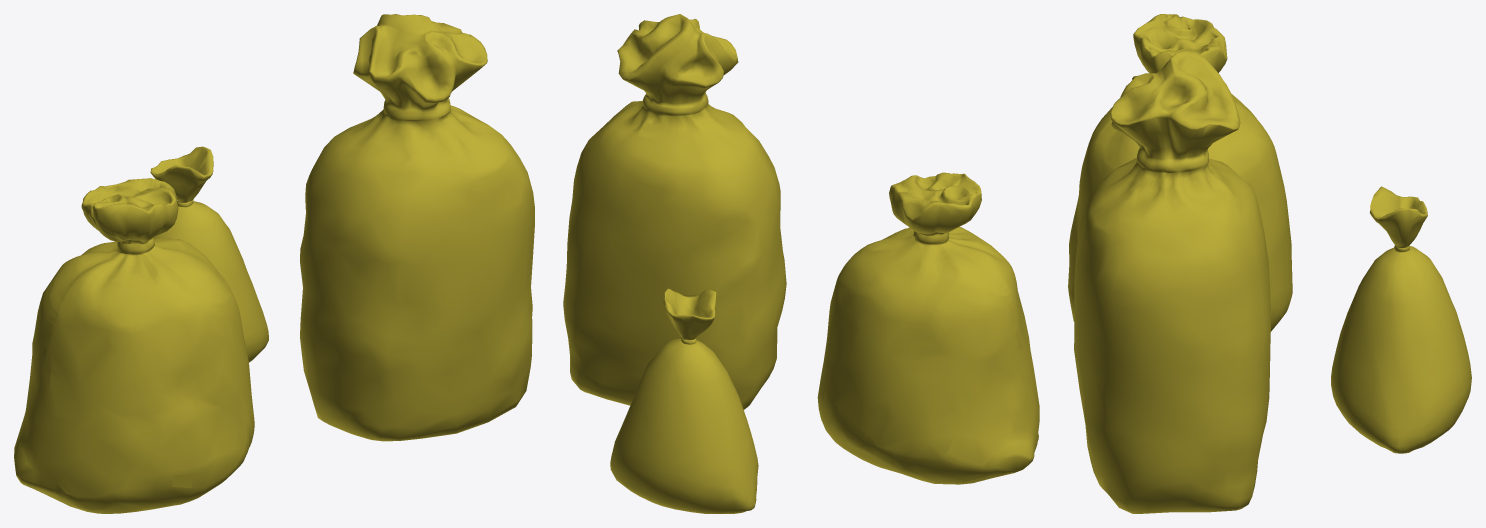
Rendered from Money_Sack_B_lowpoly.FBX.
3 renders of one model, left to right at view 1: azimuth 30°, elevation 25°; view 2: azimuth 150°, elevation 25°; view 3: azimuth 270°, elevation 25°, orthographic. The views are drawn at different scales.
Visible parts, largest first — view 1: Money_Sack_B1, Money_Sack_B2, Money_Sack_B3; view 2: Money_Sack_B1, Money_Sack_B2, Money_Sack_B3; view 3: Money_Sack_B1, Money_Sack_B3, Money_Sack_B2.
Part boxes in pixels (bbox=[...]): Money_Sack_B1: bbox=[300, 14, 534, 441]; Money_Sack_B2: bbox=[14, 178, 254, 513]; Money_Sack_B3: bbox=[150, 146, 268, 362]; Money_Sack_B1: bbox=[563, 14, 786, 409]; Money_Sack_B2: bbox=[817, 172, 1039, 484]; Money_Sack_B3: bbox=[610, 288, 758, 513]; Money_Sack_B1: bbox=[1074, 50, 1270, 513]; Money_Sack_B3: bbox=[1331, 186, 1471, 453]; Money_Sack_B2: bbox=[1068, 14, 1292, 331].
Size of what is drawn, in the model's own units: 94.85 by 74.92 by 63.98.
